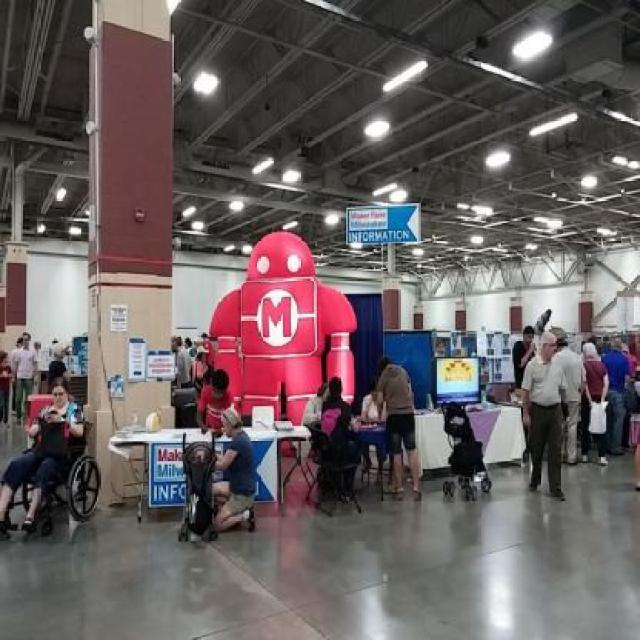Person: (1, 372, 84, 539), (521, 330, 568, 502), (374, 355, 421, 503), (211, 407, 255, 535), (320, 377, 360, 498), (553, 334, 589, 461), (601, 336, 633, 455), (580, 342, 609, 464), (291, 382, 331, 464), (194, 366, 237, 434), (11, 331, 38, 427), (362, 382, 388, 473), (512, 324, 534, 396), (192, 342, 210, 398), (177, 334, 192, 388), (432, 340, 446, 360)
